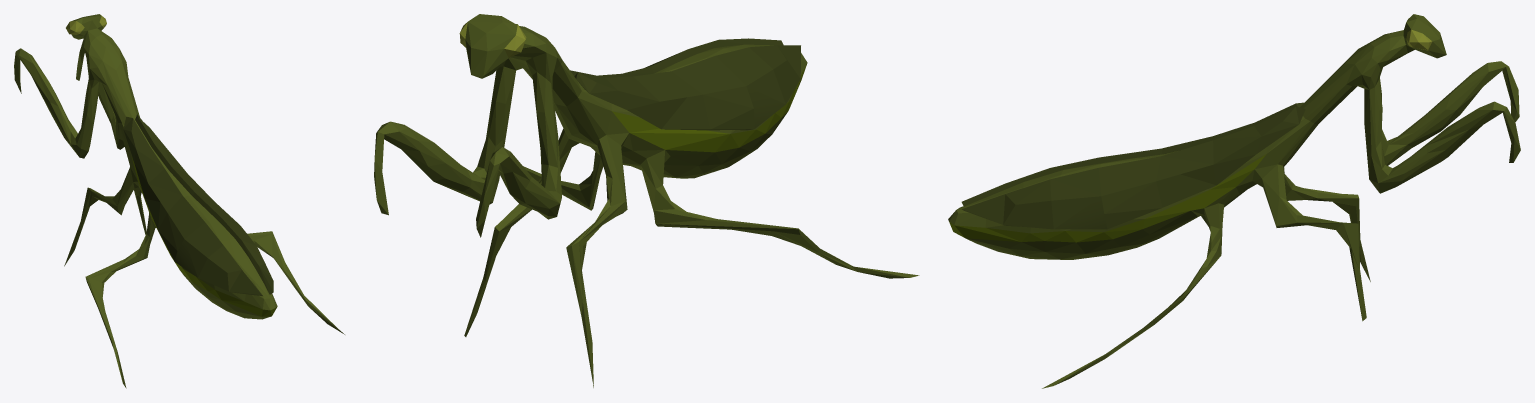
The model's file is mantis.fbx.
3 renders of one model, left to right at view 1: azimuth 30°, elevation 25°; view 2: azimuth 150°, elevation 25°; view 3: azimuth 270°, elevation 25°, orthographic. The views are drawn at different scales.
Parts seen in each view (by area): view 1: polySurface7; view 2: polySurface7; view 3: polySurface7.
Boxes of the visible parts, x1,y1,x2,y2 form: polySurface7: [14, 14, 344, 388]; polySurface7: [374, 14, 919, 387]; polySurface7: [948, 14, 1520, 388].
Bounding box in the file's own units: 26.33 × 47.07 × 27.16.
